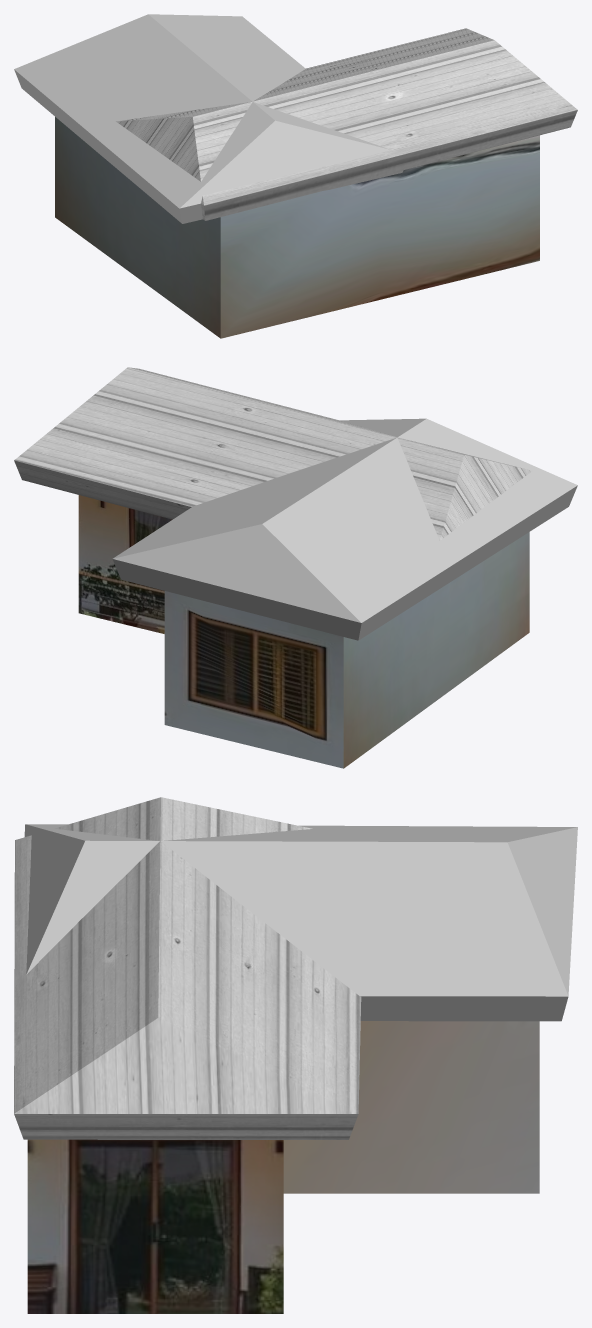
The model's file is OMAH.fbx.
3 views of the same model, one above another, from view 1: azimuth 30°, elevation 25°; view 2: azimuth 150°, elevation 25°; view 3: azimuth 270°, elevation 25° (orthographic). The views are drawn at different scales.
Parts seen in each view (by area): view 1: Cube, Atap, Atap.002; view 2: Cube, Atap.002, Atap; view 3: Atap, Cube, Atap.002.
Part boxes in pixels (x1,y1,x2,y2): Cube: (55,117,539,338); Atap: (116,28,577,220); Atap.002: (14,14,403,223); Cube: (78,495,529,768); Atap.002: (112,418,577,640); Atap: (14,367,532,540); Atap: (14,797,361,1139); Cube: (27,1021,539,1313); Atap.002: (24,824,577,1021).
Bounding box in the file's own units: 1237 × 570 × 992.
